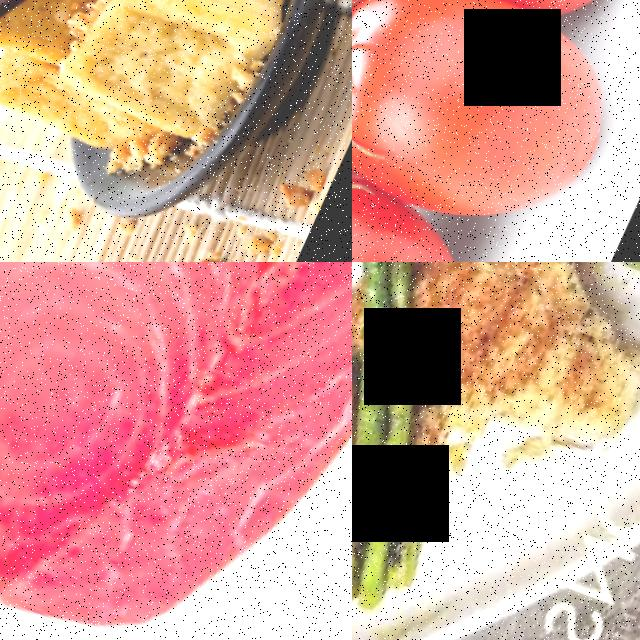tofu: (54, 0, 307, 178), (0, 0, 127, 88)
tomato: (352, 0, 640, 262), (352, 107, 509, 262), (352, 0, 640, 68)
tuna: (0, 262, 352, 640)
